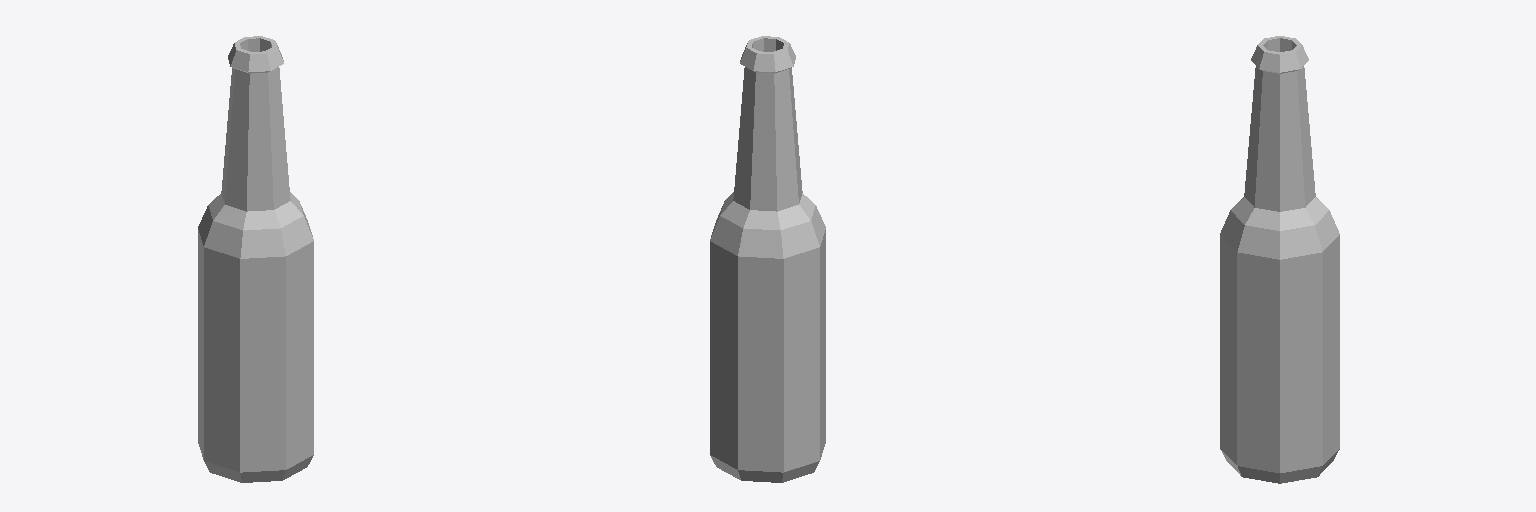
Rendered from BeerBottle_A.obj.
3 renders of one model, left to right at view 1: azimuth 30°, elevation 25°; view 2: azimuth 150°, elevation 25°; view 3: azimuth 270°, elevation 25°, orthographic.
Parts seen in each view (by area): view 1: BeerBottle_A.002_BeerBottle.002; view 2: BeerBottle_A.002_BeerBottle.002; view 3: BeerBottle_A.002_BeerBottle.002.
Part boxes in pixels (x1,y1,x2,y2): BeerBottle_A.002_BeerBottle.002: (198, 36, 313, 482); BeerBottle_A.002_BeerBottle.002: (710, 36, 825, 482); BeerBottle_A.002_BeerBottle.002: (1220, 36, 1339, 483).
Bounding box in the file's own units: 0.061 × 0.2355 × 0.061.